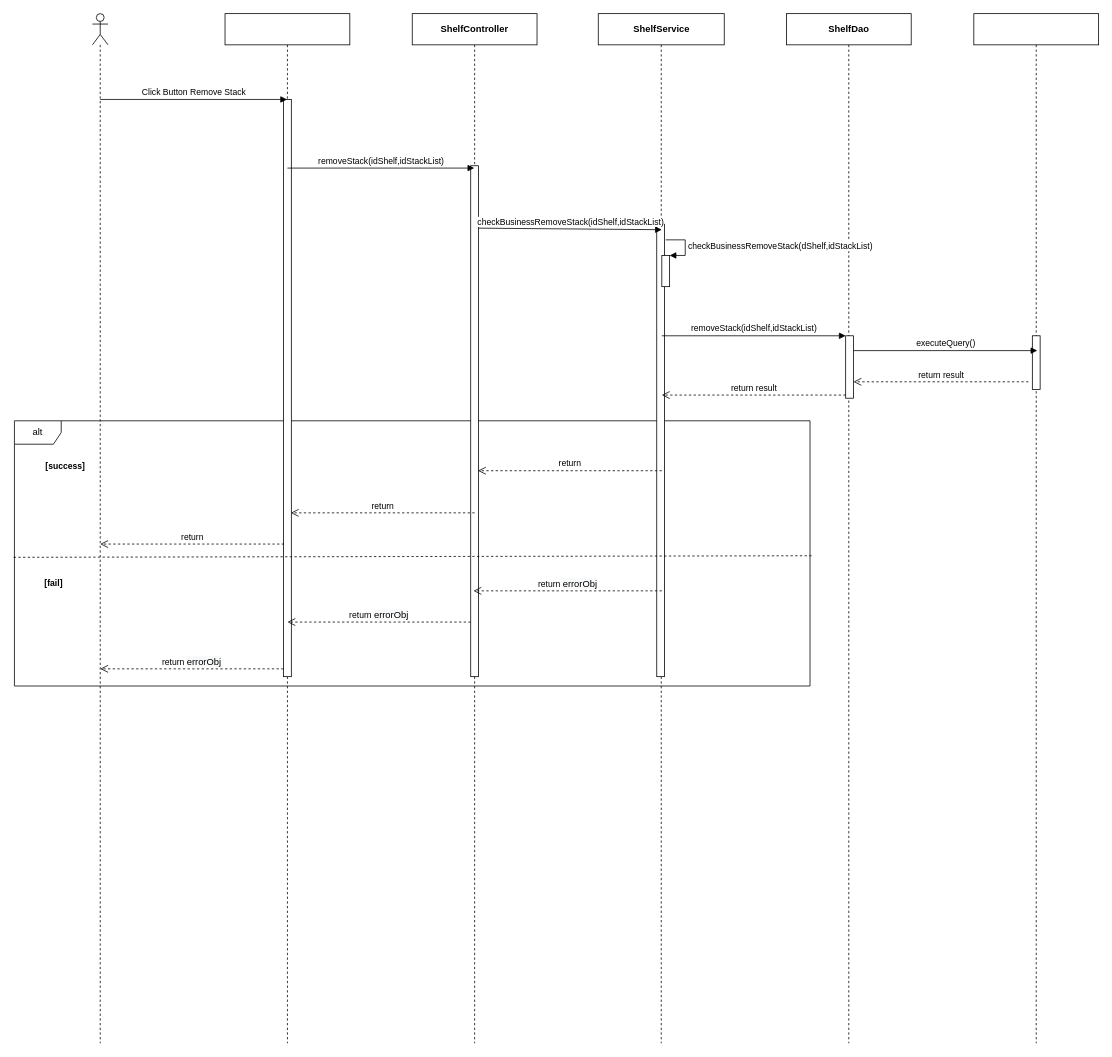
Some shapes in this 1112 by 1057 pixel diagram are drawn without their labels. Each missing label, with the box of its shape:
Database: (973, 13, 1099, 1043)
ShelfDetailPage: (224, 13, 350, 1043)
